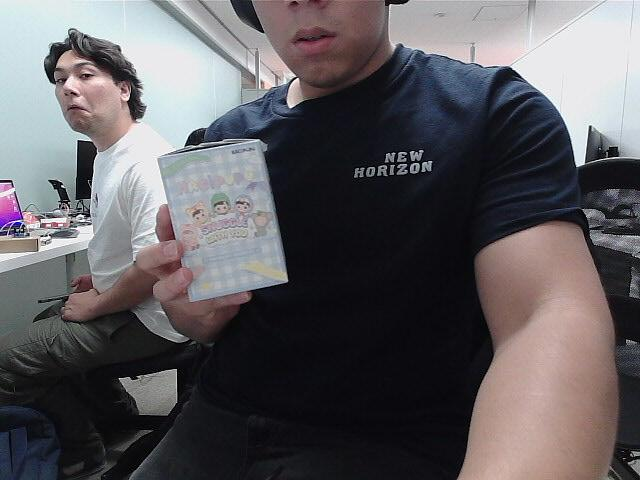Blind_box: (162, 135, 290, 296)
